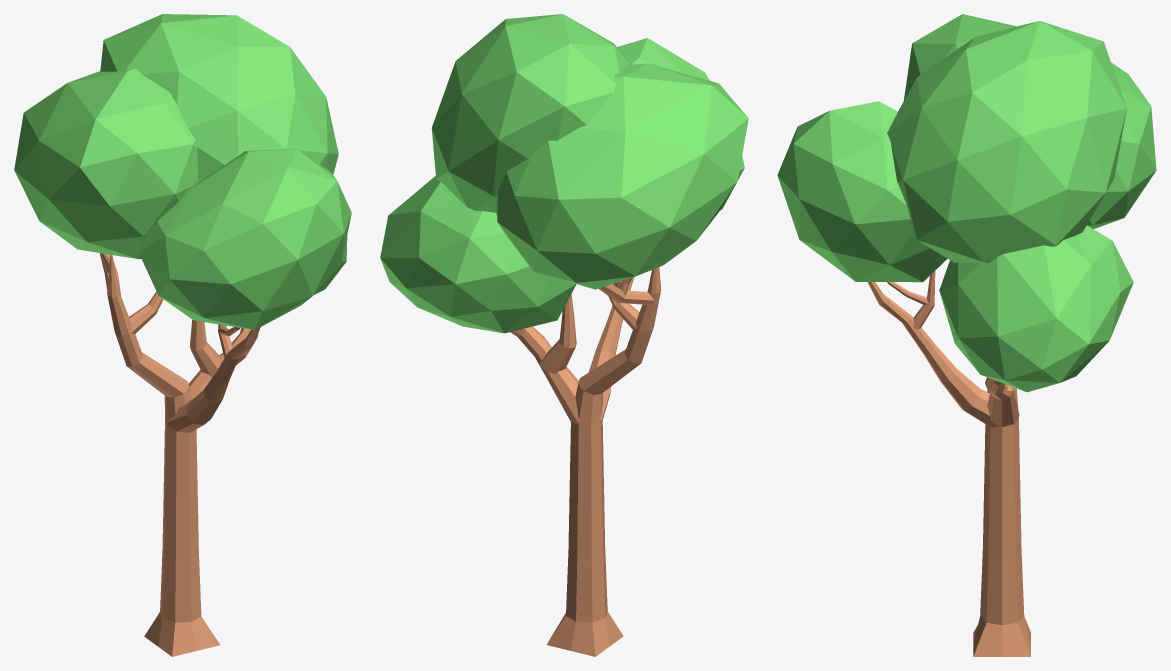
The model's file is Tree_10.fbx.
3 views of the same model, side by side, from view 1: azimuth 30°, elevation 25°; view 2: azimuth 150°, elevation 25°; view 3: azimuth 270°, elevation 25° (orthographic). The views are drawn at different scales.
Parts seen in each view (by area): view 1: Tree_10; view 2: Tree_10; view 3: Tree_10.
Boxes of the visible parts, box(x1,y1,x2,y2) form: Tree_10: box(14, 14, 351, 656); Tree_10: box(380, 14, 748, 656); Tree_10: box(777, 14, 1156, 656).
Bounding box in the file's own units: 13225 × 23851 × 13167.
